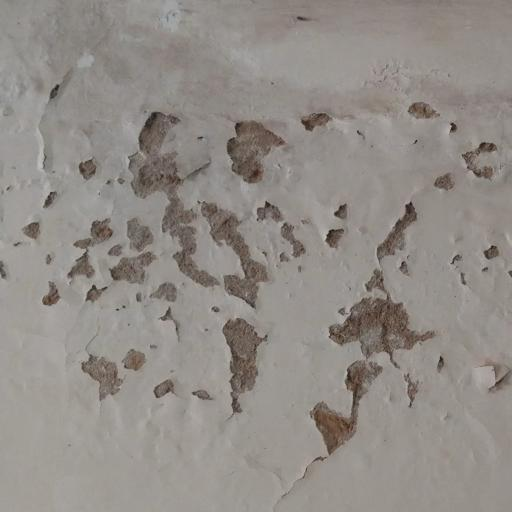peeling: (2, 99, 512, 467)
